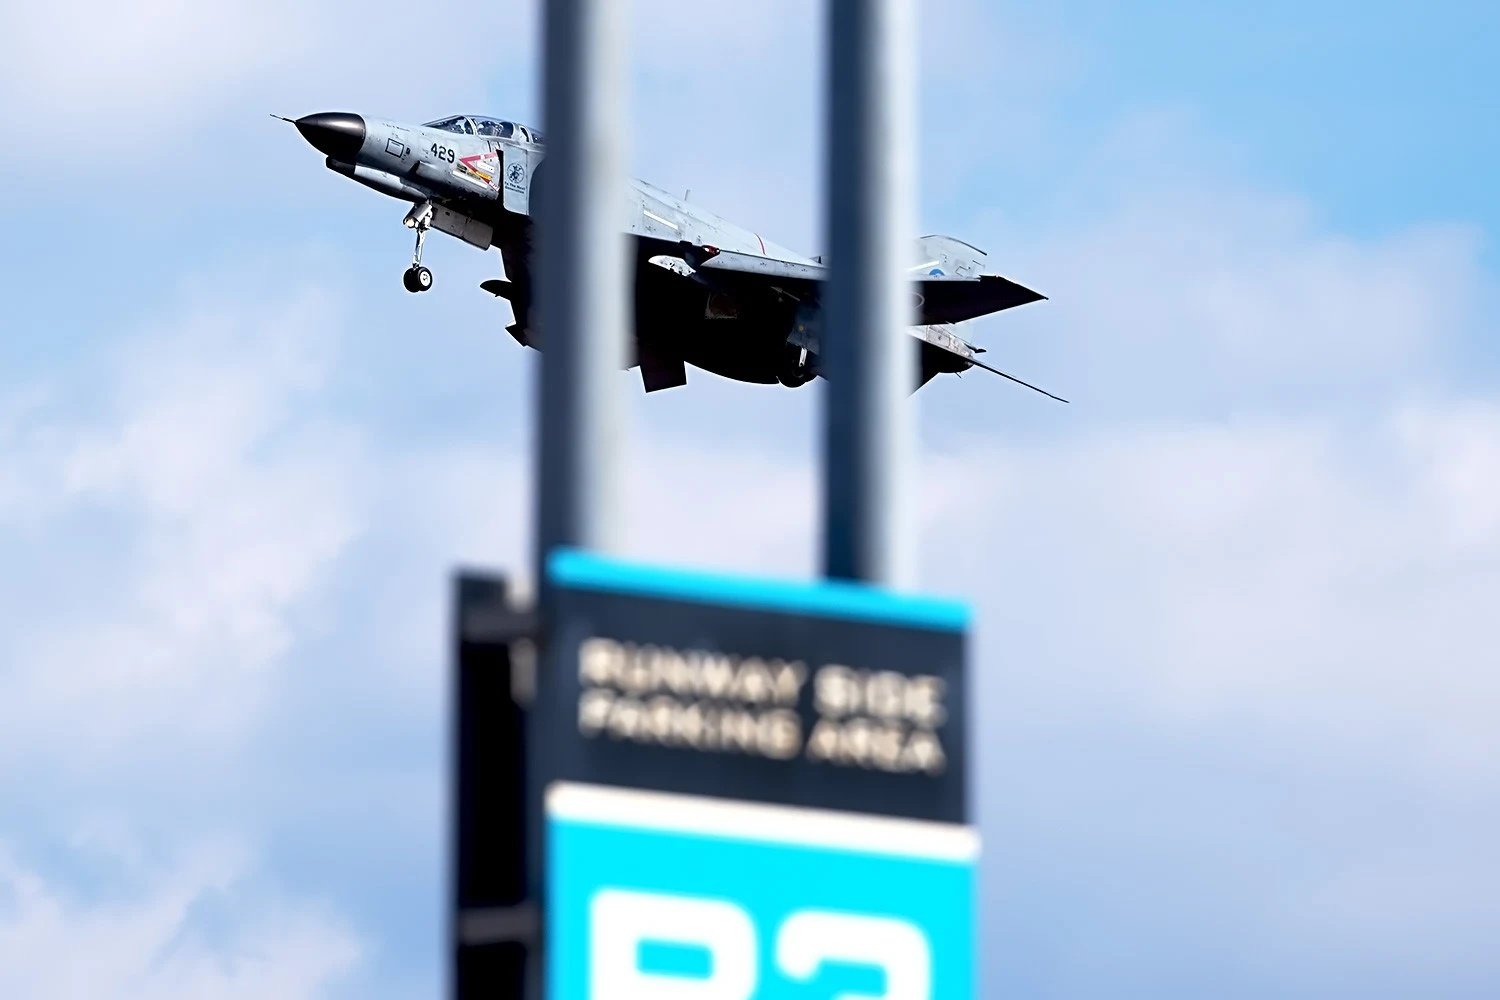F4: (269, 110, 1070, 404)
